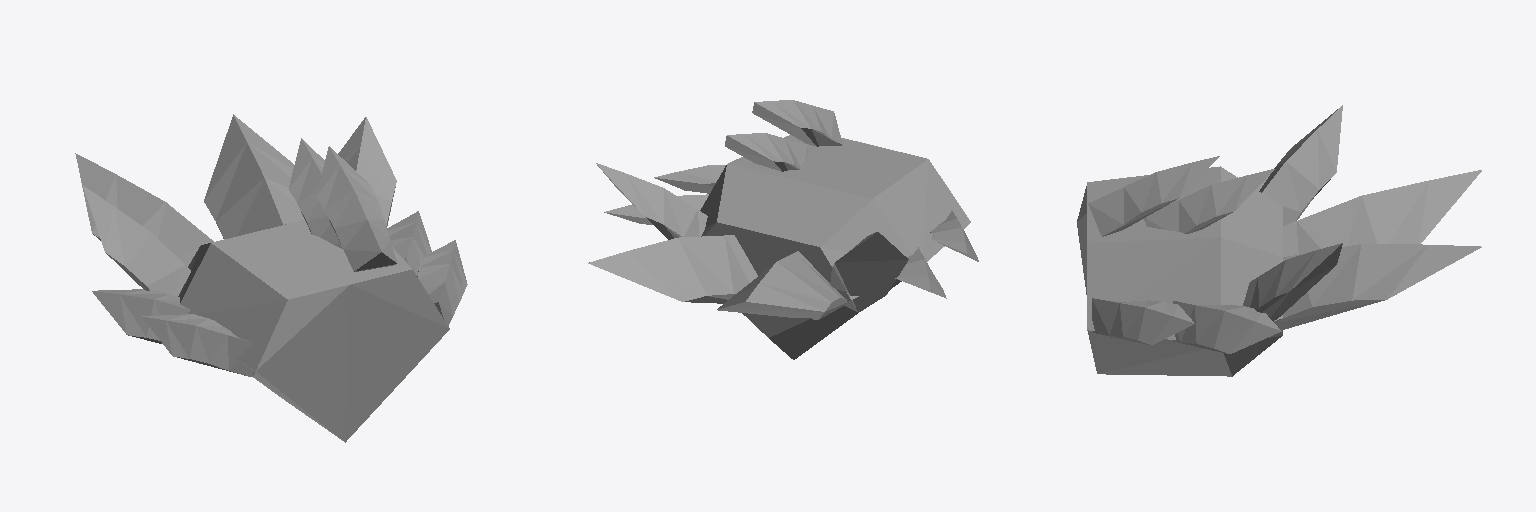
File: Tail6.obj
The picture shows the model from 3 angles: view 1: azimuth 30°, elevation 25°; view 2: azimuth 150°, elevation 25°; view 3: azimuth 270°, elevation 25°; orthographic projection.
Parts seen in each view (by area): view 1: 立方体.024; view 2: 立方体.024; view 3: 立方体.024.
Part boxes in pixels (x1,y1,x2,y2): 立方体.024: (75,114,467,442); 立方体.024: (588,100,978,359); 立方体.024: (1077,105,1481,376).
Bounding box in the file's own units: 2.28 × 1.62 × 2.45.